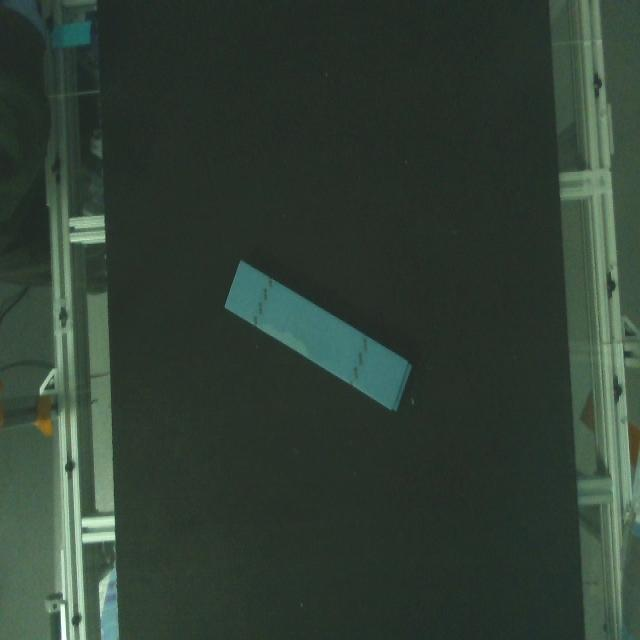paper: (216, 251, 424, 420)
